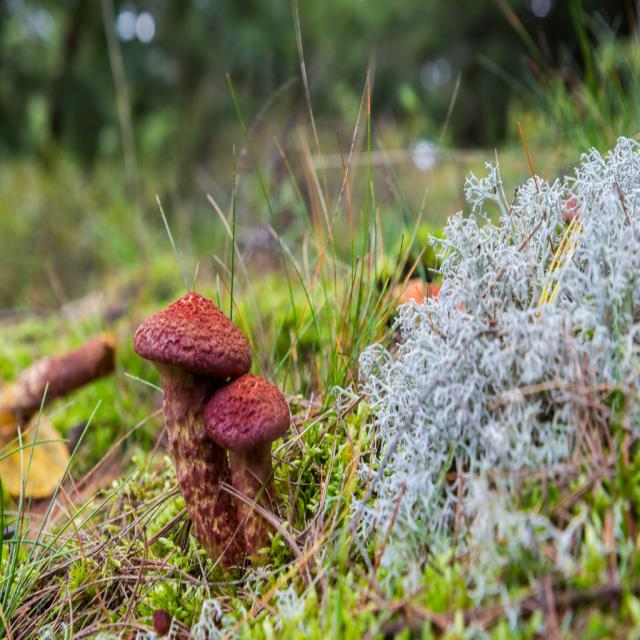mushroom: (200, 372, 292, 569)
